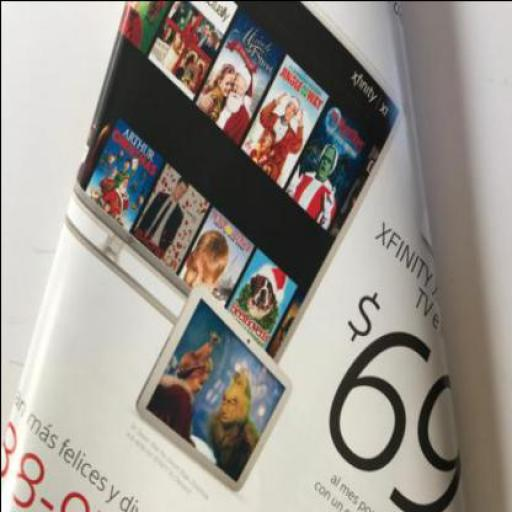paper: (1, 1, 464, 511)
